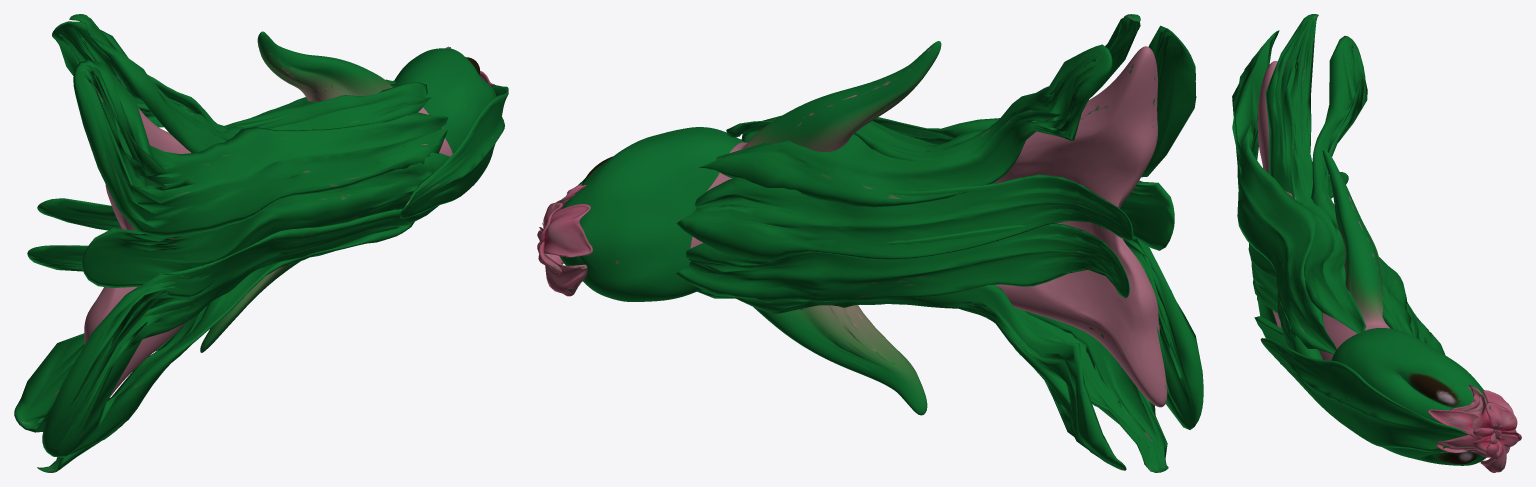
Rendered from Static_Fish1.fbx.
3 views of the same model, side by side, from view 1: azimuth 30°, elevation 25°; view 2: azimuth 150°, elevation 25°; view 3: azimuth 270°, elevation 25° (orthographic). The views are drawn at different scales.
Parts seen in each view (by area): view 1: FISHY; view 2: FISHY; view 3: FISHY.
Part boxes in pixels (bbox=[...]): FISHY: bbox=[14, 14, 508, 472]; FISHY: bbox=[537, 14, 1203, 472]; FISHY: bbox=[1232, 14, 1521, 472].
Size of the model in its own units: 339 by 266 by 184.
